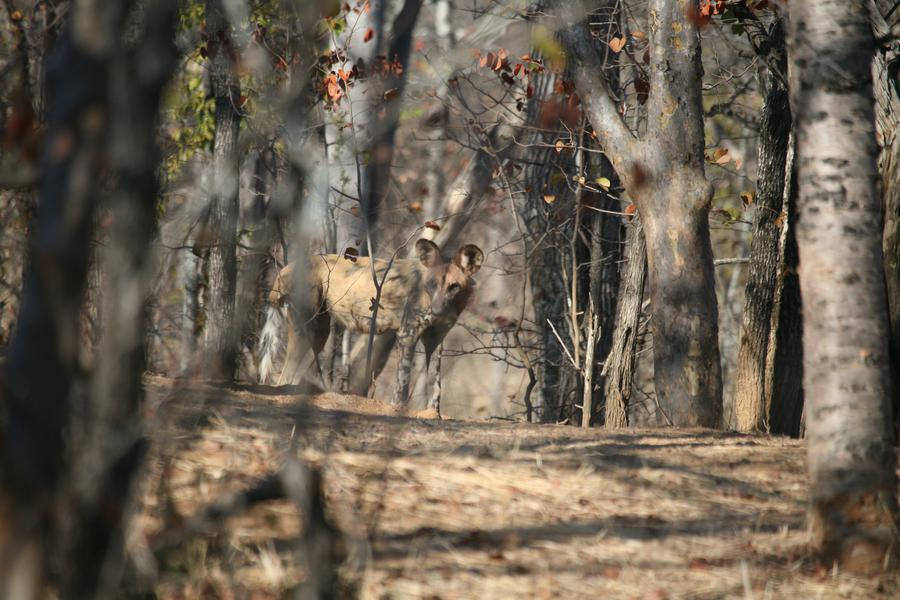wilddog: (264, 240, 482, 347)
